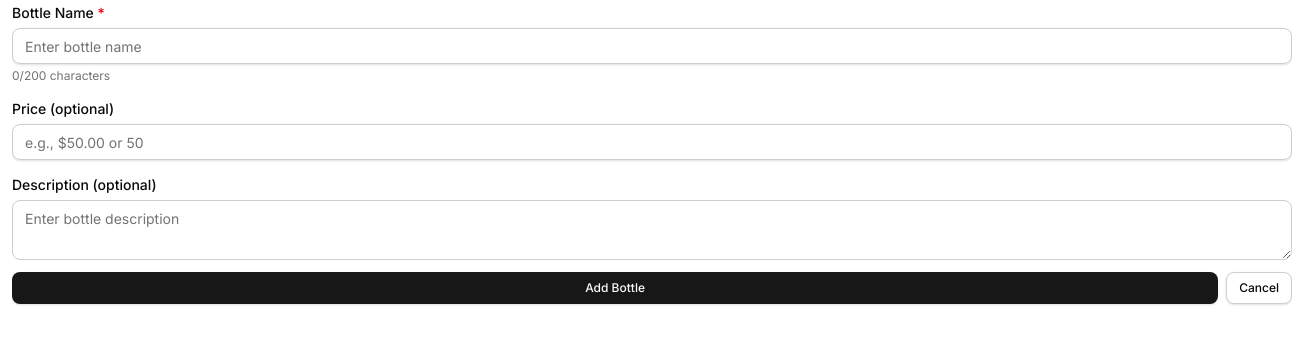
Test: ItemForm › shows validation error for negative price
Type "Merlot" into the field labelled "Bottle Name *". click: (652, 46)
box: 12,28 -> 1292,64
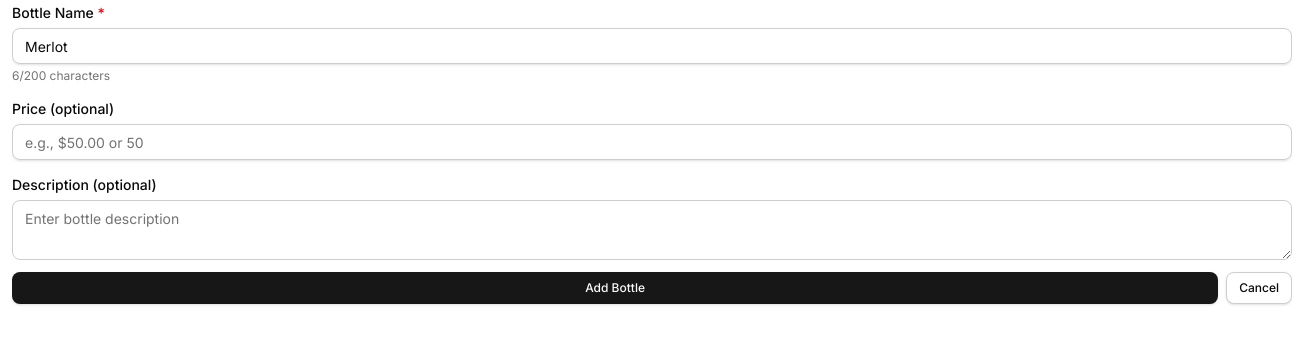
Type "-5" into the field labelled "Price (optional)". click: (652, 142)
box: 12,124 -> 1292,160
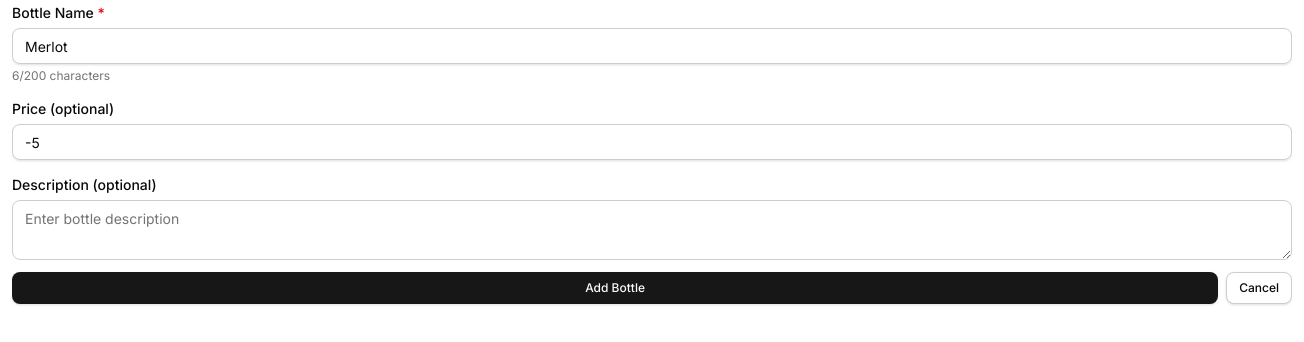
Click the button "Add Bottle". click: (615, 288)
box: 12,272 -> 1218,304
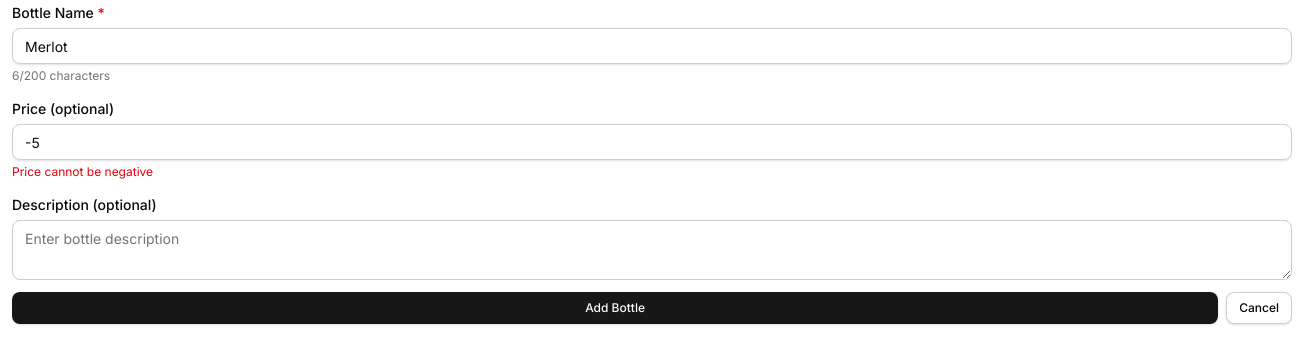
Result: the text "Price cannot be negative" is shown at 12,164 -> 153,179
